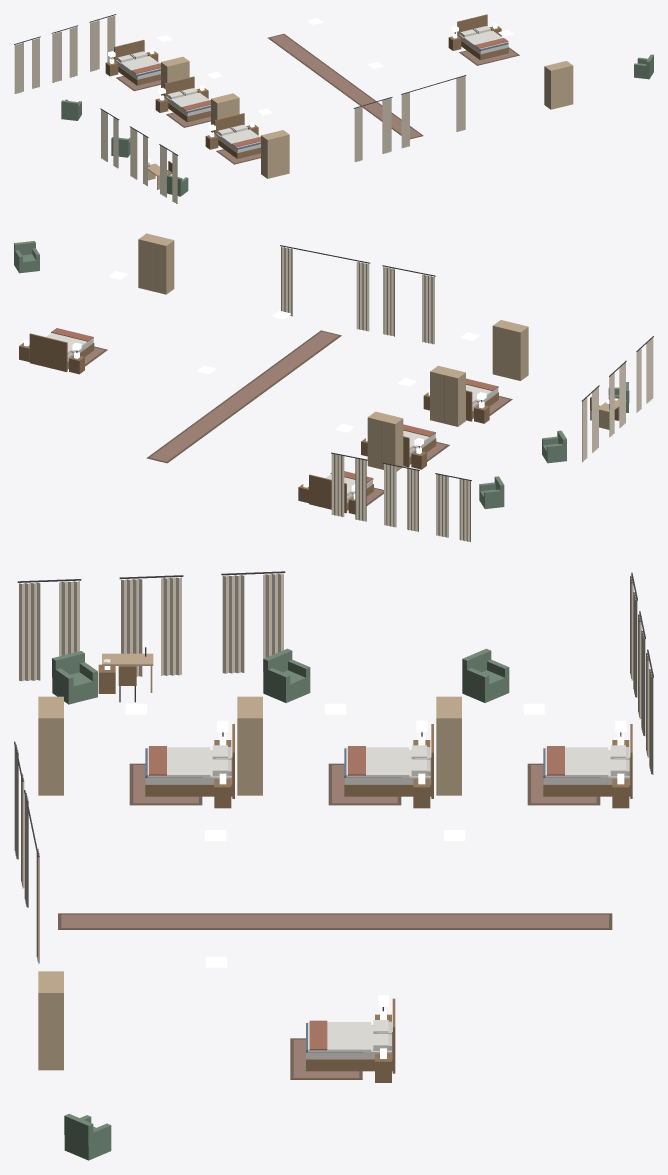
The model's file is fine-s7.glb.
The picture shows the model from 3 angles, top to bottom: view 1: azimuth 30°, elevation 25°; view 2: azimuth 150°, elevation 25°; view 3: azimuth 270°, elevation 25°; orthographic projection. The views are drawn at different scales.
Visible parts, largest first — view 1: soft-s7, dresser.024, dresser.027, bed-frame.024, bed-frame.025, bed-frame.026, bed-frame.027, dresser.025, dresser.026, lounge-chair.024, lounge-chair.025, lounge-chair.027 (+1 smaller); view 2: soft-s7, dresser.024, dresser.027, dresser.026, dresser.025, bed-frame.024, bed-frame.025, lounge-chair.024, lounge-chair.025, lounge-chair.026; view 3: soft-s7, dresser.024, dresser.025, dresser.026, dresser.027, lounge-chair.025, lounge-chair.026, lounge-chair.027, bed-frame.024, bed-frame.025, bed-frame.026, bed-frame.027 (+2 smaller).
Part boxes in pixels (<box>): soft-s7: <box>14,14,519,203</box>; dresser.024: <box>544,61,573,109</box>; dresser.027: <box>261,130,289,178</box>; bed-frame.024: <box>457,14,508,60</box>; bed-frame.025: <box>114,40,160,85</box>; bed-frame.026: <box>164,76,210,122</box>; bed-frame.027: <box>214,113,260,158</box>; dresser.025: <box>161,56,189,95</box>; dresser.026: <box>211,93,239,132</box>; lounge-chair.024: <box>634,54,653,79</box>; lounge-chair.025: <box>61,99,81,120</box>; lounge-chair.027: <box>167,174,188,196</box>; soft-s7: <box>46,245,653,541</box>; dresser.024: <box>138,233,174,294</box>; dresser.027: <box>492,320,528,380</box>; dresser.026: <box>430,365,465,426</box>; dresser.025: <box>367,411,403,471</box>; bed-frame.024: <box>29,333,94,371</box>; bed-frame.025: <box>309,474,373,513</box>; lounge-chair.024: <box>14,241,39,273</box>; lounge-chair.025: <box>479,476,504,508</box>; lounge-chair.026: <box>542,430,566,463</box>; soft-s7: <box>14,571,653,1079</box>; dresser.024: <box>38,971,63,1070</box>; dresser.025: <box>436,696,461,795</box>; dresser.026: <box>237,696,262,795</box>; dresser.027: <box>38,696,63,795</box>; lounge-chair.025: <box>462,648,509,702</box>; lounge-chair.026: <box>263,648,310,702</box>; lounge-chair.027: <box>52,651,97,704</box>; bed-frame.024: <box>306,998,395,1073</box>; bed-frame.025: <box>543,724,632,798</box>; bed-frame.026: <box>344,724,433,798</box>; bed-frame.027: <box>145,724,234,798</box>.
Size of the model in its own units: 27.13 by 2.86 by 15.01.
